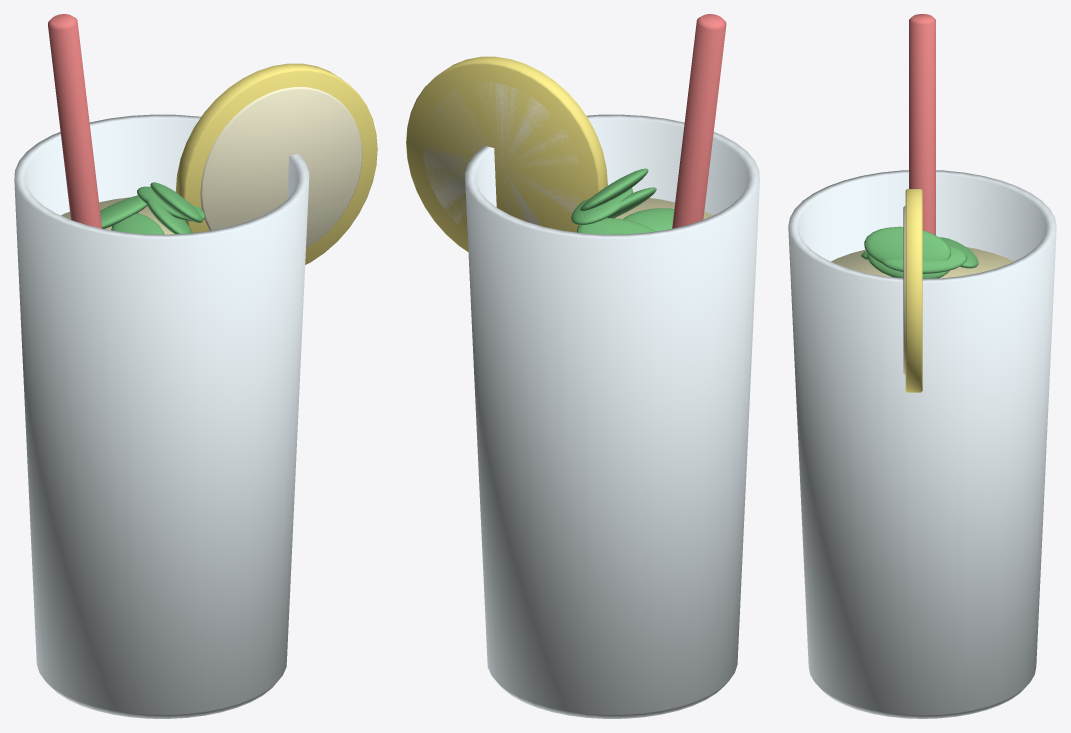
The model's file is lemonade.glb.
The picture shows the model from 3 angles, left to right: view 1: azimuth 30°, elevation 25°; view 2: azimuth 150°, elevation 25°; view 3: azimuth 270°, elevation 25°; orthographic projection. The views are drawn at different scales.
Parts seen in each view (by area): view 1: part0, part4, part3, part6, part5; view 2: part0, part3, part4, part6, part5; view 3: part0, part6, part3, part5, part1, part4.
Boxes of the visible parts, x1,y1,x2,y2 form: part0: (14,114,309,718); part4: (200,87,362,248); part3: (175,63,377,264); part6: (48,14,101,228); part5: (100,182,205,234); part0: (465,114,759,718); part3: (406,56,607,252); part4: (423,82,580,230); part6: (672,14,726,228); part5: (571,168,674,234); part0: (788,170,1056,718); part6: (909,14,935,235); part3: (905,189,922,392); part5: (861,226,978,278); part1: (831,247,1013,278); part4: (903,205,905,375).
Bounding box in the file's own units: 0.1035 × 0.199 × 0.079.
